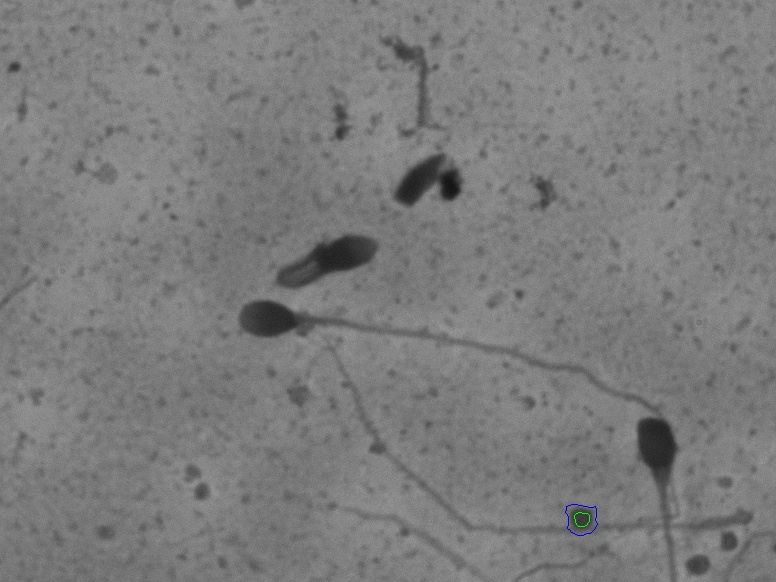Abnormal: (247, 208, 396, 294)
Normal: (231, 299, 676, 419)
